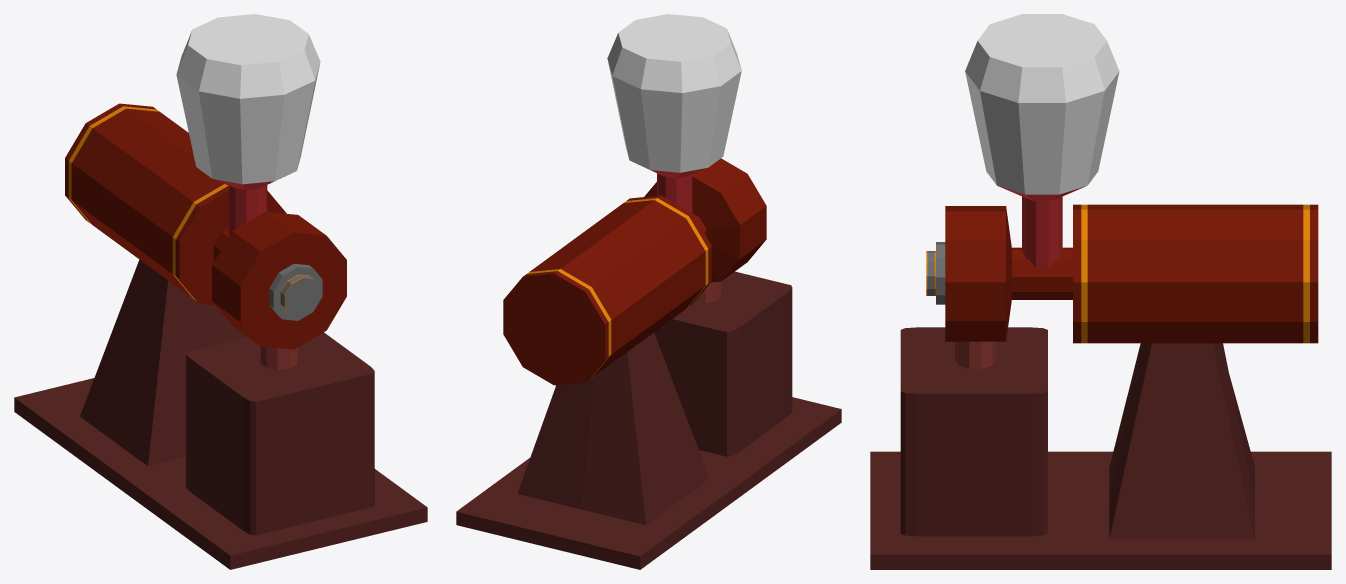
File: Mesin Grinder.fbx
3 views of the same model, side by side, from view 1: azimuth 30°, elevation 25°; view 2: azimuth 150°, elevation 25°; view 3: azimuth 270°, elevation 25° (orthographic). The views are drawn at different scales.
Visible parts, largest first — view 1: Cube.001, Cylinder.007, Cylinder.006, Cylinder.005, Cylinder.004; view 2: Cube.001, Cylinder.007, Cylinder.006; view 3: Cube.001, Cylinder.007, Cylinder.006, Cylinder.004, Cylinder.005.
Part boxes in pixels (x1=…): Cube.001: x1=14, y1=259, x2=427, y2=569; Cylinder.007: x1=65, y1=103, x2=346, y2=349; Cylinder.006: x1=176, y1=14, x2=320, y2=235; Cylinder.005: x1=269, y1=263, x2=322, y2=320; Cylinder.004: x1=260, y1=346, x2=298, y2=369; Cube.001: x1=456, y1=271, x2=841, y2=569; Cylinder.007: x1=503, y1=158, x2=766, y2=385; Cylinder.006: x1=607, y1=14, x2=741, y2=212; Cube.001: x1=870, y1=327, x2=1331, y2=569; Cylinder.007: x1=945, y1=204, x2=1318, y2=343; Cylinder.006: x1=965, y1=14, x2=1119, y2=267; Cylinder.004: x1=955, y1=341, x2=996, y2=368; Cylinder.005: x1=926, y1=242, x2=945, y2=304.
Bounding box in the file's own units: 415 × 899 × 787.
